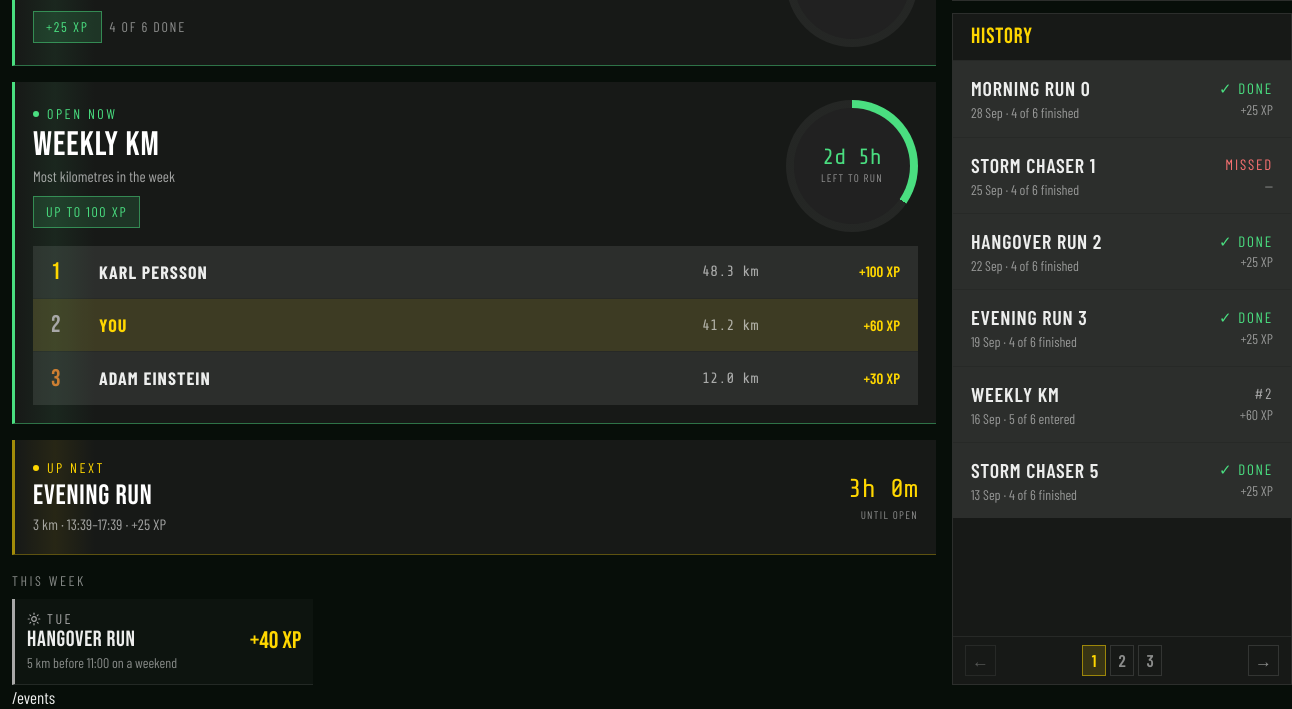
Test: Events — Your record och historik (mobil) › en sida i pagern hämtar nästa sex (limit 6, offset 6), skriver ?page= och byter raderna
This screenshot has width=1292, height=709.
(page scrolled)
Click the button named "Page 2": (1122, 660) [1110, 645, 1134, 676]
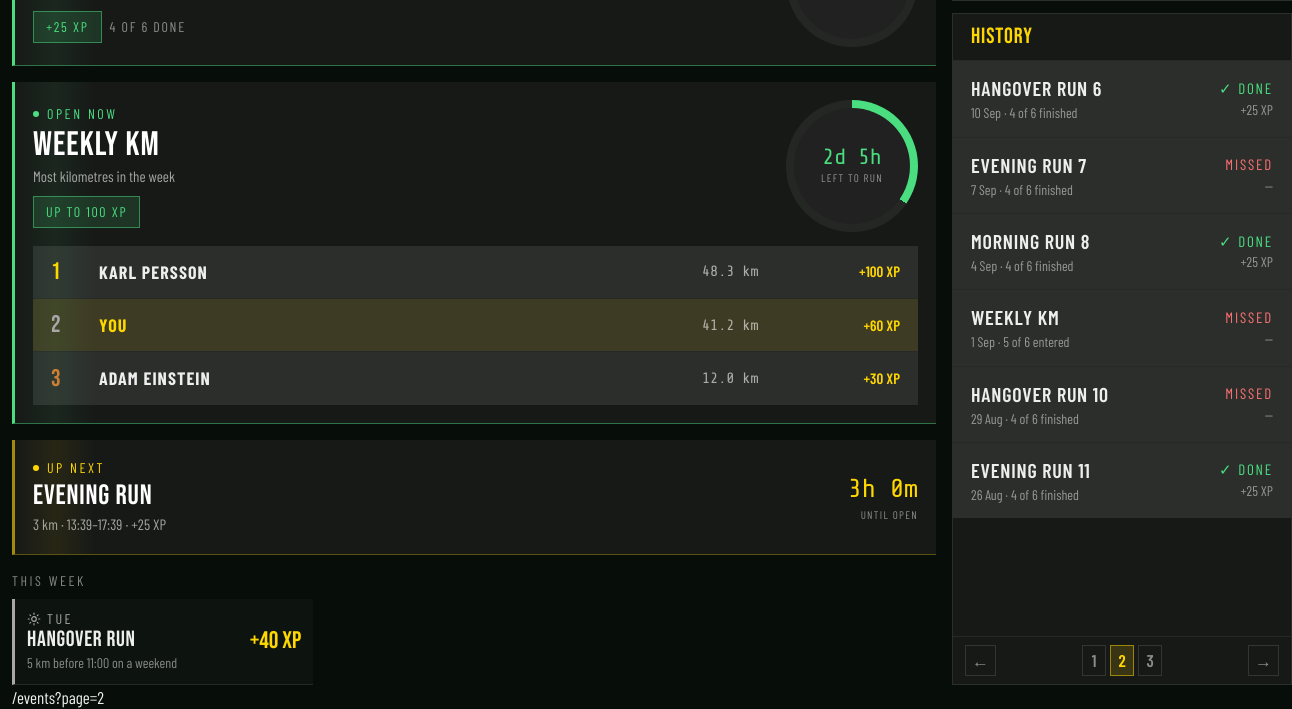
Result: the text with test id "location" reads "/events?page=2" at [12, 686, 104, 706]
Result: the heading "Hangover Run 6" is shown at [971, 74, 1102, 103]
Result: the heading "Morning Run 0" is gone
